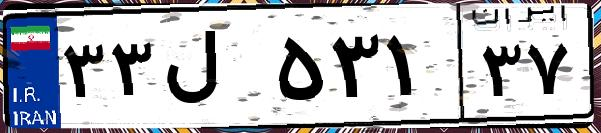1: (385, 28, 445, 110)
3: (330, 28, 385, 110), (57, 26, 110, 100), (475, 38, 525, 113), (110, 28, 158, 98)
5: (270, 28, 330, 110)
7: (525, 38, 570, 115)
ل: (158, 20, 270, 120)
